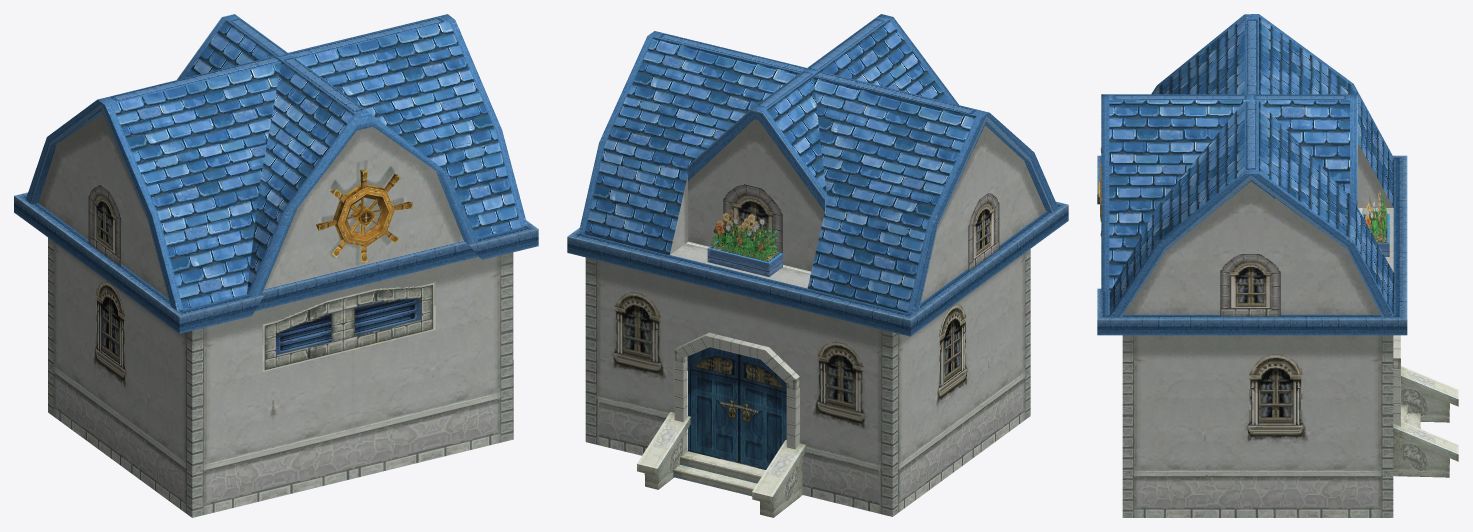
3 views of the same model, side by side, from view 1: azimuth 30°, elevation 25°; view 2: azimuth 150°, elevation 25°; view 3: azimuth 270°, elevation 25° (orthographic). The views are drawn at different scales.
Visible parts, largest first — view 1: geom_node_0; view 2: geom_node_0; view 3: geom_node_0.
Boxes of the visible parts, box(x1,y1,x2,y2) form: geom_node_0: box(14, 14, 538, 517); geom_node_0: box(567, 14, 1068, 517); geom_node_0: box(1097, 14, 1458, 517).
Size of the model in its own units: 7.24 by 7.19 by 6.74.
Materials: 3 (3 with a texture image).
